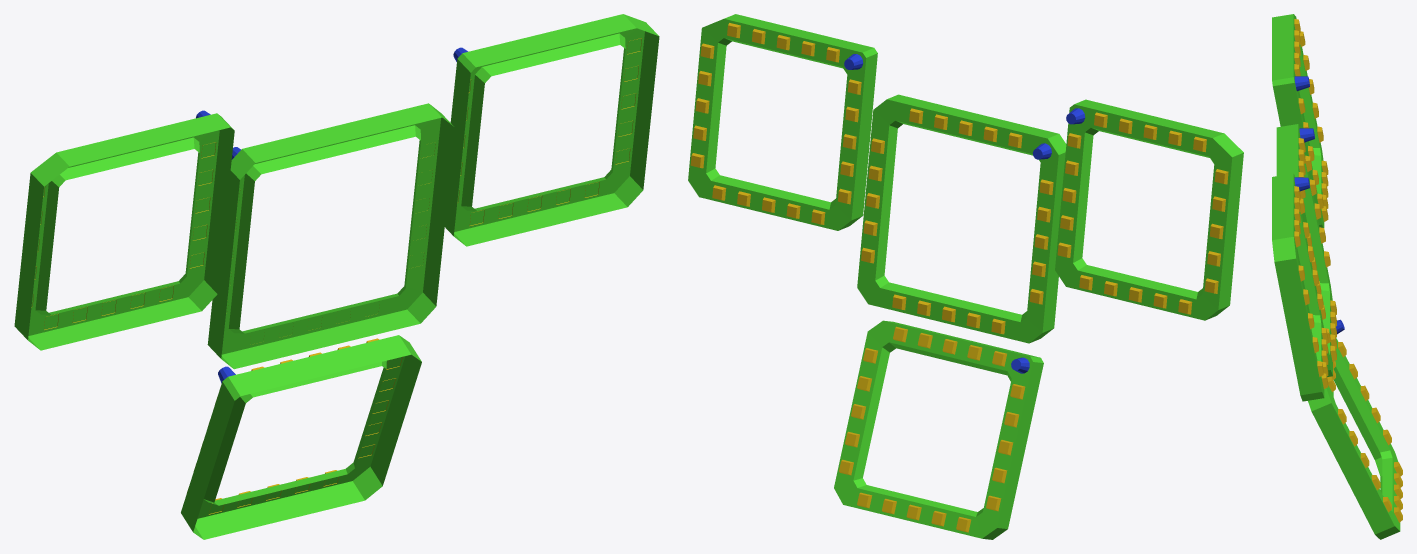
Rendered from ScreensExportLowPoly.fbx.
The picture shows the model from 3 angles, left to right: view 1: azimuth 30°, elevation 25°; view 2: azimuth 150°, elevation 25°; view 3: azimuth 270°, elevation 25°; orthographic projection. The views are drawn at different scales.
Parts seen in each view (by area): view 1: Screen Middle, Screen Right, Screen Left, Screen Bottom; view 2: Screen Middle, Screen Right, Screen Left, Screen Bottom; view 3: Screen Bottom, Screen Left, Screen Right, Screen Middle.
Part boxes in pixels (left/top/right/bottom): Screen Middle: left=207, top=103, right=454, bottom=369; Screen Right: left=14, top=110, right=234, bottom=350; Screen Left: left=444, top=14, right=659, bottom=246; Screen Bottom: left=181, top=335, right=421, bottom=539; Screen Middle: left=857, top=94, right=1066, bottom=343; Screen Right: left=1055, top=99, right=1243, bottom=320; Screen Left: left=688, top=14, right=877, bottom=230; Screen Bottom: left=834, top=320, right=1043, bottom=539; Screen Bottom: left=1308, top=319, right=1402, bottom=539; Screen Left: left=1272, top=173, right=1328, bottom=401; Screen Right: left=1272, top=14, right=1328, bottom=227; Screen Middle: left=1276, top=124, right=1336, bottom=376.
Size of the model in its own units: 59.34 by 43.88 by 13.58.
